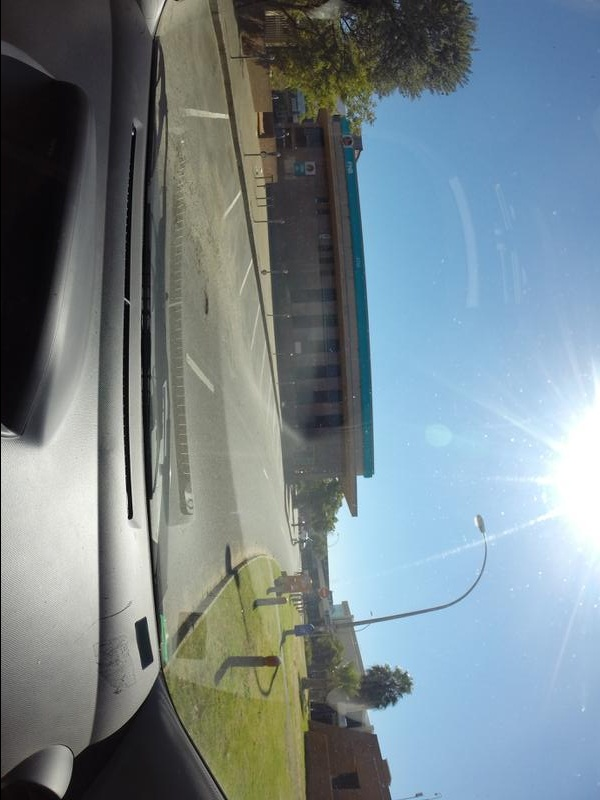pothole: (198, 289, 212, 332)
